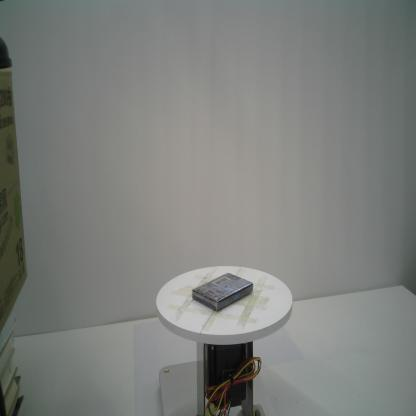Gum: (191, 272, 254, 313)
